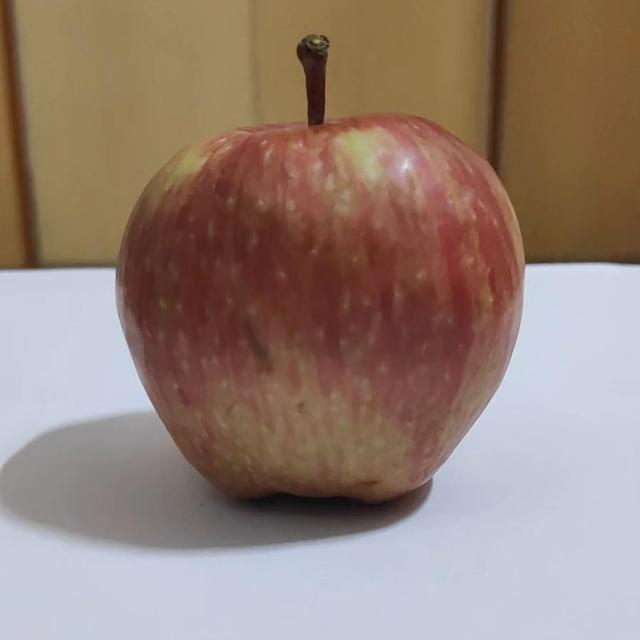Apple: (118, 36, 524, 502)
